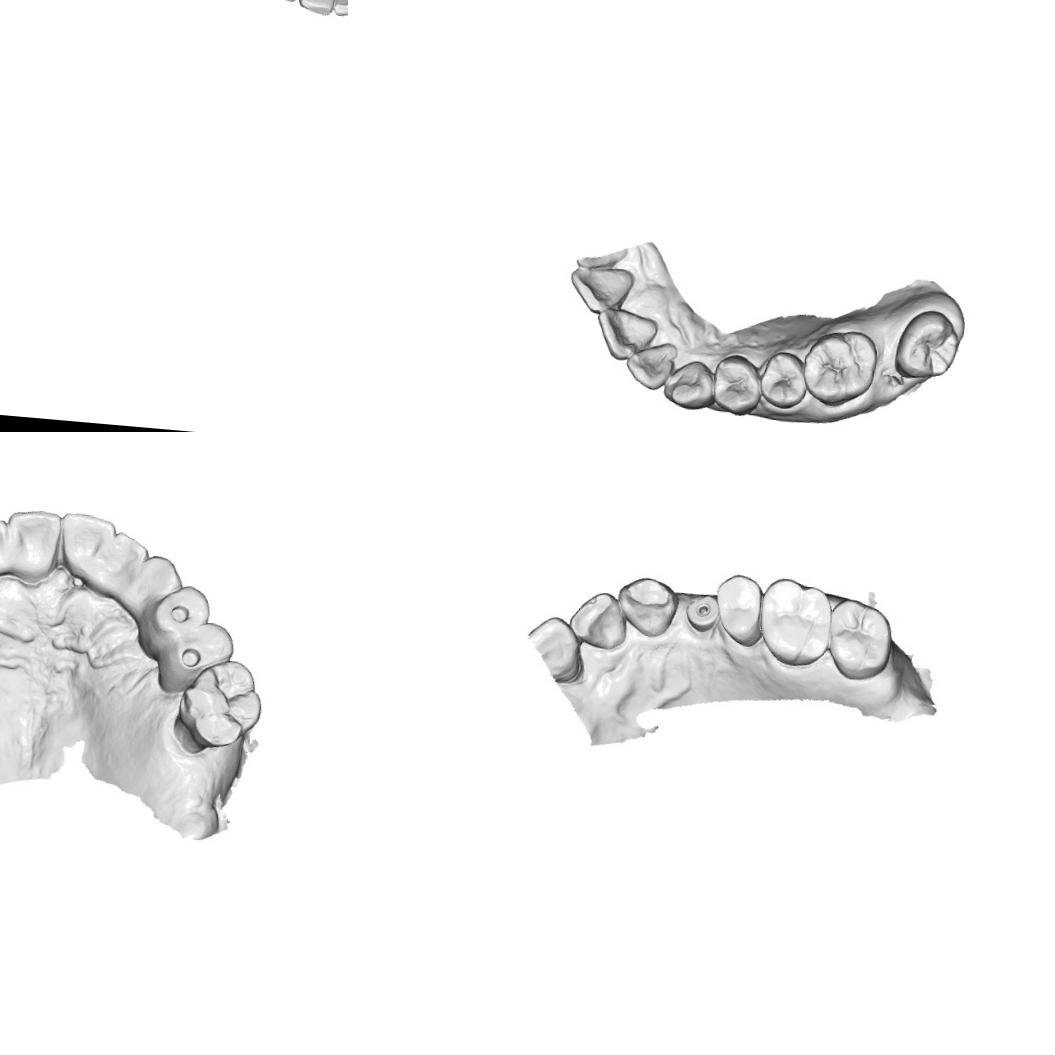canine: (615, 568, 677, 638), (126, 552, 186, 611), (660, 356, 718, 412)
implant: (682, 596, 722, 639)
incisor: (0, 505, 65, 584), (55, 510, 119, 582), (524, 610, 585, 684), (565, 586, 628, 651), (566, 261, 636, 318), (592, 306, 660, 364), (100, 528, 151, 588), (623, 338, 679, 392), (0, 513, 13, 577), (295, 0, 337, 17)
molar: (172, 654, 266, 752), (755, 575, 834, 668), (799, 326, 879, 410), (821, 594, 895, 682), (891, 306, 962, 382)
premolar: (165, 616, 237, 682), (710, 570, 766, 648), (144, 580, 212, 644), (710, 352, 764, 418), (757, 348, 810, 410)
